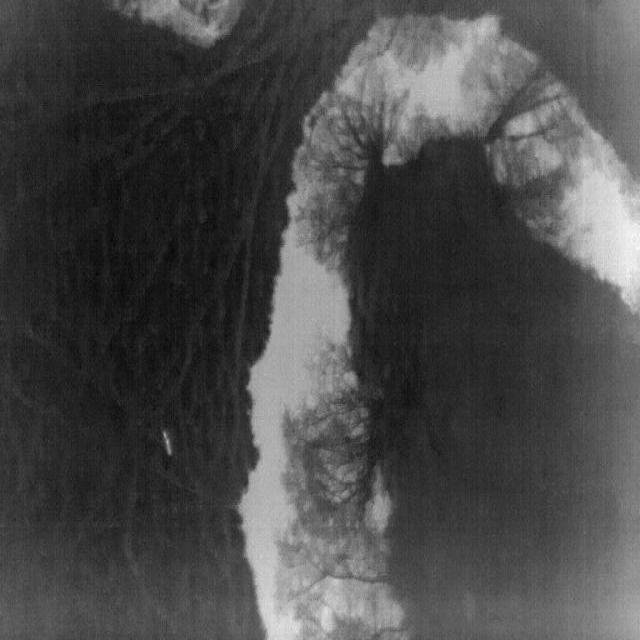deer: (162, 429, 173, 456)
